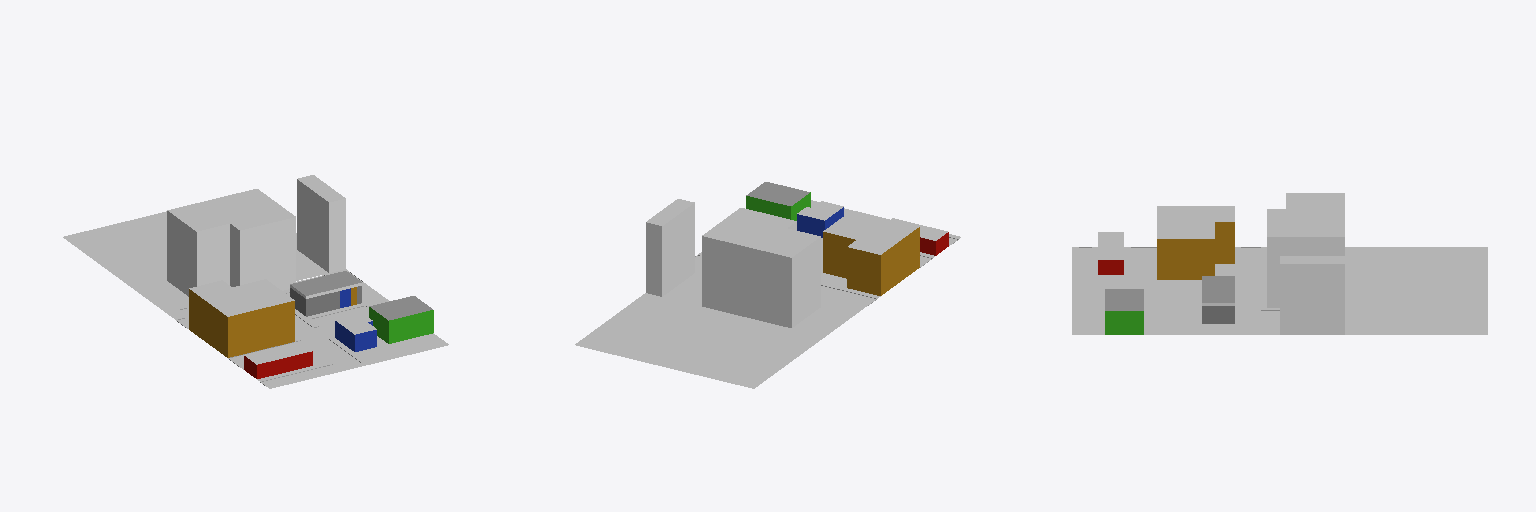
File: city.obj
The picture shows the model from 3 angles: view 1: azimuth 30°, elevation 25°; view 2: azimuth 150°, elevation 25°; view 3: azimuth 270°, elevation 25°; orthographic projection.
Parts seen in each view (by area): view 1: Plane, Plane.001; view 2: Plane.001, Plane; view 3: Plane, Plane.001.
Part boxes in pixels (x1,y1,x2,y2): Plane: (167,212,448,388); Plane.001: (63,175,345,312); Plane.001: (575,199,856,388); Plane: (695,182,960,312); Plane: (1072,206,1279,334); Plane.001: (1280,193,1487,334).
Bounding box in the file's own units: 32 × 12.09 × 64.